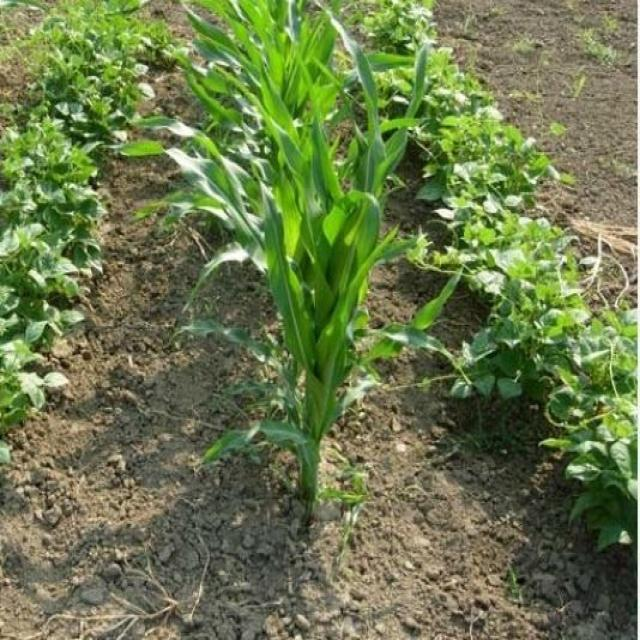row: (307, 1, 639, 640), (0, 0, 298, 640), (437, 0, 638, 324)
